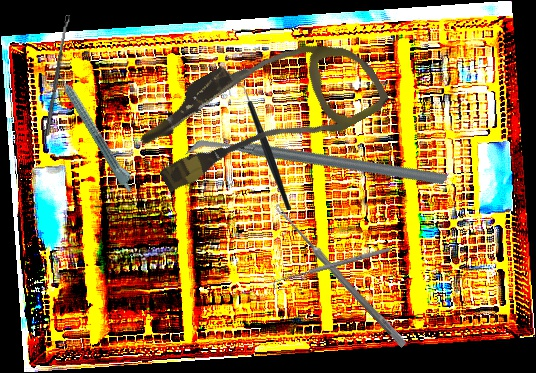Cannula: (128, 2, 393, 219)
Chopper: (185, 50, 449, 279), (234, 82, 291, 210)
Handpiece: (51, 62, 140, 196)
Hook Surgical: (270, 245, 394, 290)
Surgical Spoon: (271, 202, 409, 349), (44, 14, 71, 137)
